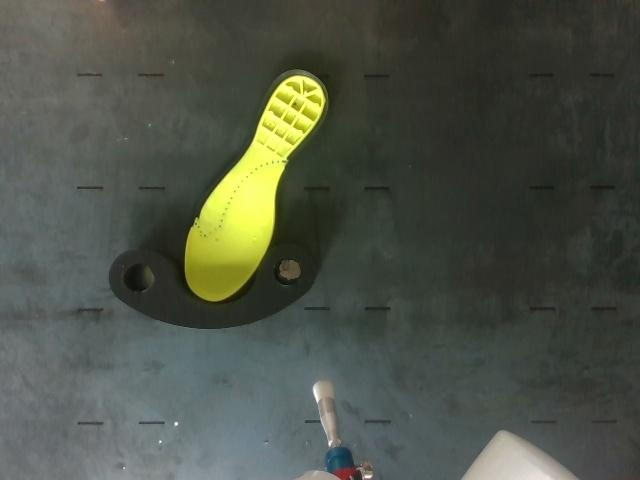shoes: (185, 69, 328, 301)
